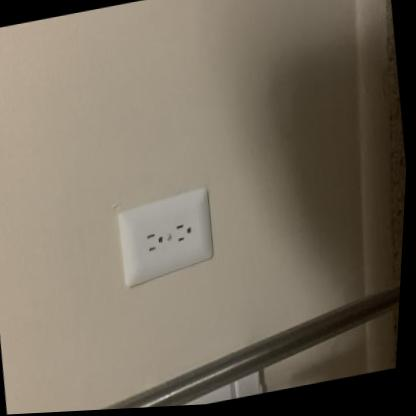OUTLET: (111, 184, 220, 283)
